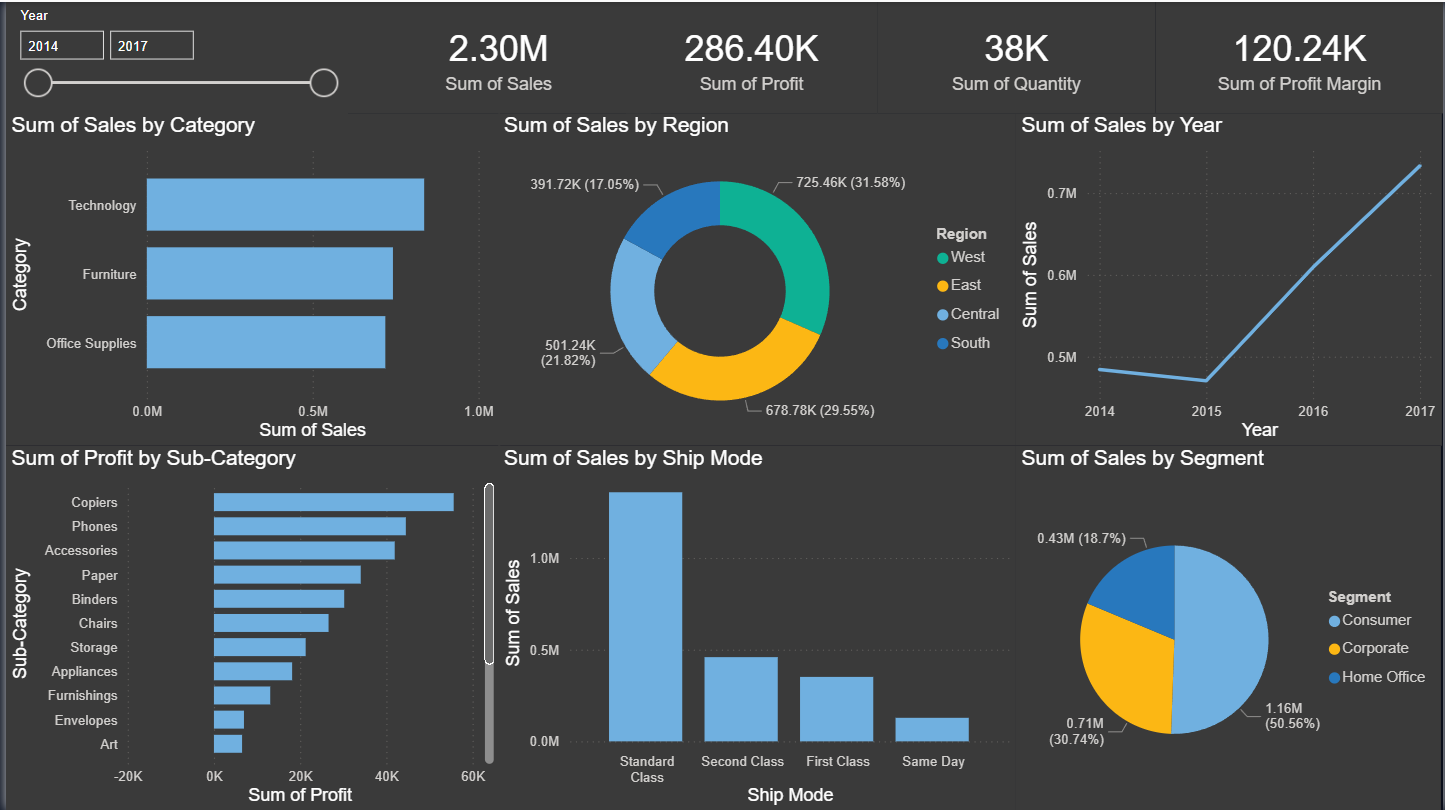

Layout of this report page (visuals, bound fields, positions):
{"tool":"powerbi","page":{"name":"Superstore Dashboard","canvas":[1280,720],"ordinal":0},"visuals":[{"type":"card","fields":{"Values":["Sum(superstore_clean.Sales)"]},"box":[304,0,270,99],"z":0},{"type":"card","fields":{"Values":["Sum(superstore_clean.Profit)"]},"box":[552,0,224,99],"z":1000},{"type":"card","fields":{"Values":["Sum(superstore_clean.Quantity)"]},"box":[776,0,248,99],"z":2000},{"type":"card","fields":{"Values":["Sum(superstore_clean.Profit Margin)"]},"box":[1024,0,256,99],"z":3000},{"type":"clusteredBarChart","fields":{"Category":["superstore_clean.Category"],"Y":["Sum(superstore_clean.Sales)"]},"box":[0,99,440,296],"z":4000},{"type":"clusteredBarChart","fields":{"Category":["superstore_clean.Sub-Category"],"Y":["Sum(superstore_clean.Profit)"]},"box":[0,395.2,439.7,325],"z":5000},{"type":"lineChart","fields":{"Category":["superstore_clean.Order Date.Variation.Date Hierarchy.Year","superstore_clean.Order Date.Variation.Date Hierarchy.Quarter","superstore_clean.Order Date.Variation.Date Hierarchy.Month","superstore_clean.Order Date.Variation.Date Hierarchy.Day"],"Y":["Sum(superstore_clean.Sales)"]},"box":[900,99,379,296],"z":6000},{"type":"donutChart","fields":{"Category":["superstore_clean.Region"],"Y":["Sum(superstore_clean.Sales)"]},"box":[438.6,99.1,460.9,296.1],"z":7000},{"type":"pieChart","fields":{"Category":["superstore_clean.Segment"],"Y":["Sum(superstore_clean.Sales)"]},"box":[899.4,395.2,378.5,325],"z":8000},{"type":"clusteredColumnChart","fields":{"Category":["superstore_clean.Ship Mode"],"Y":["Sum(superstore_clean.Sales)"]},"box":[438.6,395.2,460.9,325],"z":9000},{"type":"slicer","fields":{"Values":["superstore_clean.Year"]},"box":[0,0,304,99],"z":10000}]}

Visuals, with their boxes in screenshot pixels (x1, y1, x2, y2), scaled from the page's 1280x720 canvas onto the 1445x810 screenshot:
card - Sum(superstore_clean.Sales): 343/0/648/111
card - Sum(superstore_clean.Profit): 623/0/876/111
card - Sum(superstore_clean.Quantity): 876/0/1156/111
card - Sum(superstore_clean.Profit Margin): 1156/0/1444/111
clusteredBarChart - superstore_clean.Category x Sum(superstore_clean.Sales): 0/111/497/444
clusteredBarChart - superstore_clean.Sub-Category x Sum(superstore_clean.Profit): 0/445/496/809
lineChart - superstore_clean.Order Date.Variation.Date Hierarchy.Year x superstore_clean.Order Date.Variation.Date Hierarchy.Quarter: 1016/111/1444/444
donutChart - superstore_clean.Region x Sum(superstore_clean.Sales): 495/111/1015/445
pieChart - superstore_clean.Segment x Sum(superstore_clean.Sales): 1015/445/1443/809
clusteredColumnChart - superstore_clean.Ship Mode x Sum(superstore_clean.Sales): 495/445/1015/809
slicer - superstore_clean.Year: 0/0/343/111
